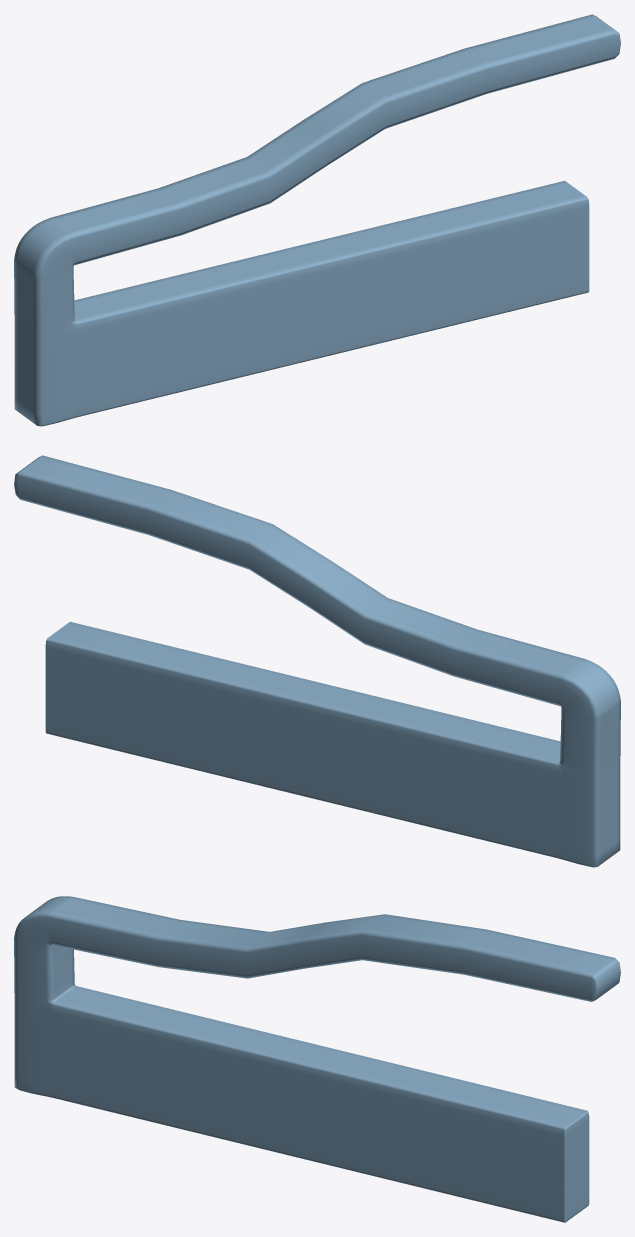
Rendered from Sofa_Edge_Large.fbx.
3 views of the same model, one above another, from view 1: azimuth 30°, elevation 25°; view 2: azimuth 150°, elevation 25°; view 3: azimuth 330°, elevation 25° (orthographic).
Visible parts, largest first — view 1: Sofa_Edge_Large; view 2: Sofa_Edge_Large; view 3: Sofa_Edge_Large.
Part boxes in pixels (x1,y1,x2,y2): Sofa_Edge_Large: [14, 14, 620, 426]; Sofa_Edge_Large: [14, 455, 620, 867]; Sofa_Edge_Large: [14, 896, 620, 1222].
Size of the model in its own units: 118 by 49.16 by 8.62.
